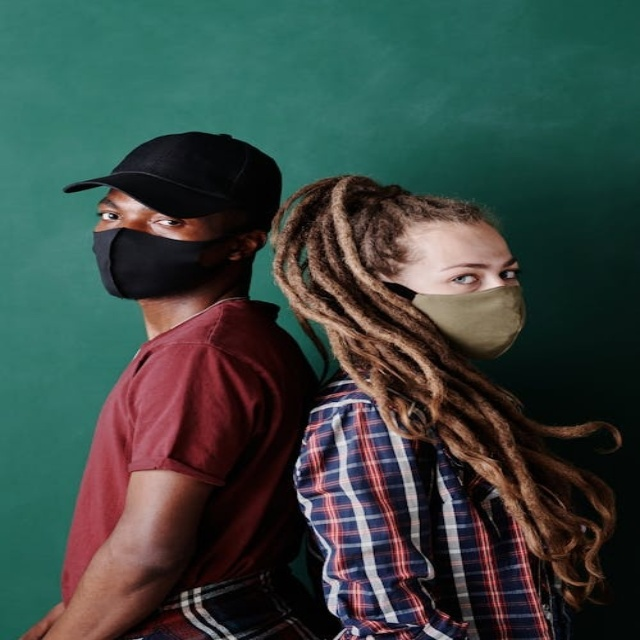Mascara: (92, 225, 246, 300), (393, 284, 526, 363)
Sin_gafas: (408, 255, 524, 287), (90, 197, 201, 229)
